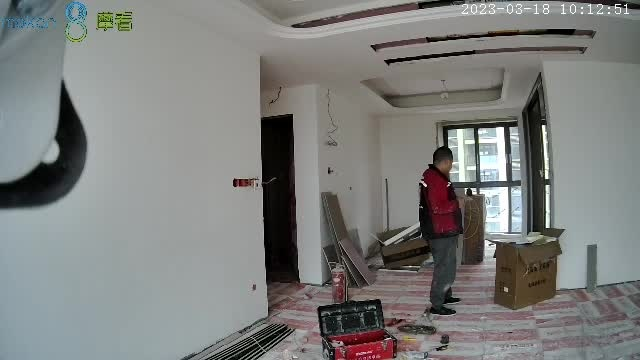people: (417, 147, 461, 316)
window: (445, 123, 523, 238)
